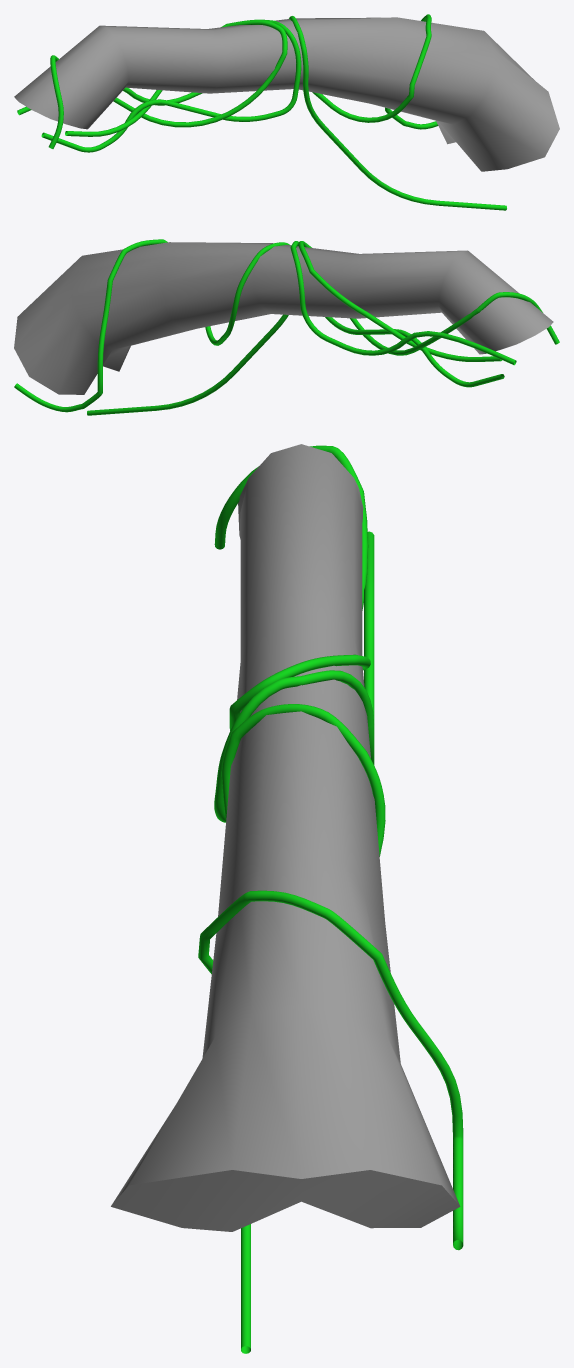
The model's file is Trunk.FBX.
The picture shows the model from 3 angles, top to bottom: view 1: azimuth 30°, elevation 25°; view 2: azimuth 150°, elevation 25°; view 3: azimuth 270°, elevation 25°; orthographic projection. The views are drawn at different scales.
Visible parts, largest first — view 1: Trunk_LP, Vines; view 2: Trunk_LP, Vines; view 3: Trunk_LP, Vines.
Part boxes in pixels (x1,y1,x2,y2): Trunk_LP: (14, 17, 559, 171); Vines: (17, 14, 506, 210); Trunk_LP: (14, 242, 553, 394); Vines: (14, 239, 559, 415); Trunk_LP: (111, 444, 460, 1231); Vines: (198, 445, 463, 1353).
Bounding box in the file's own units: 42.76 × 21.13 × 12.65.
